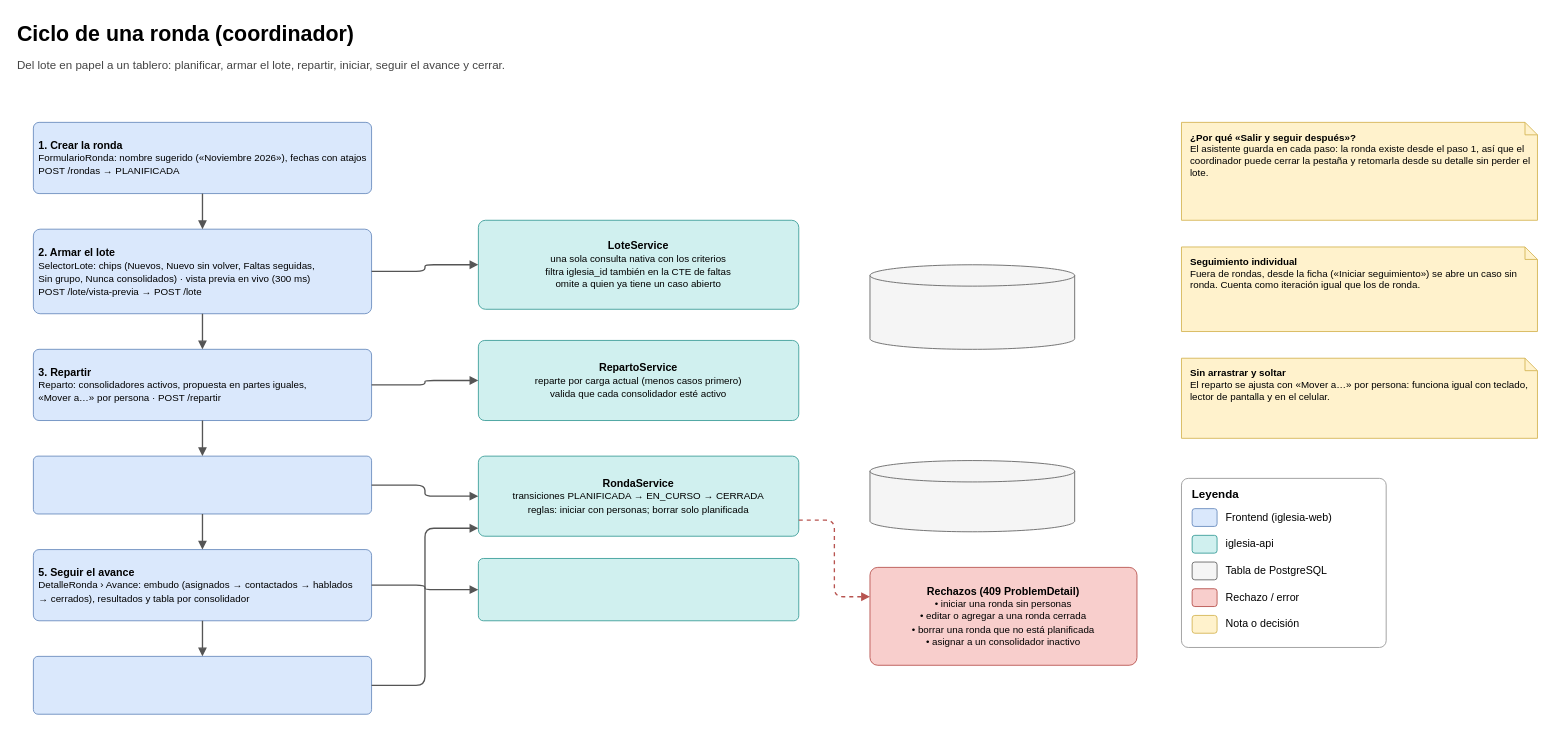
Some shapes in this 1553 by 730 pixel diagram are drawn without their labels. The shapes that lost their labels are listed below. From the top down, each one's centre as x and y in pixels, then its label:
At [972,306]: "caso_consolidacion un caso por persona y ronda ux_caso_abierto_por_miembro".
At [202,484]: "4. Iniciar POST /iniciar → EN_CURSO: los casos aparecen en «Mis asignados»".
At [972,496]: "ronda_consolidacion estado · fechas".
At [638,589]: "AvanceRondaService conteos agregados en la base (sin bucles)".
At [202,684]: "6. Cerrar POST /cerrar → CERRADA: se conserva todo; ya no se registra".
